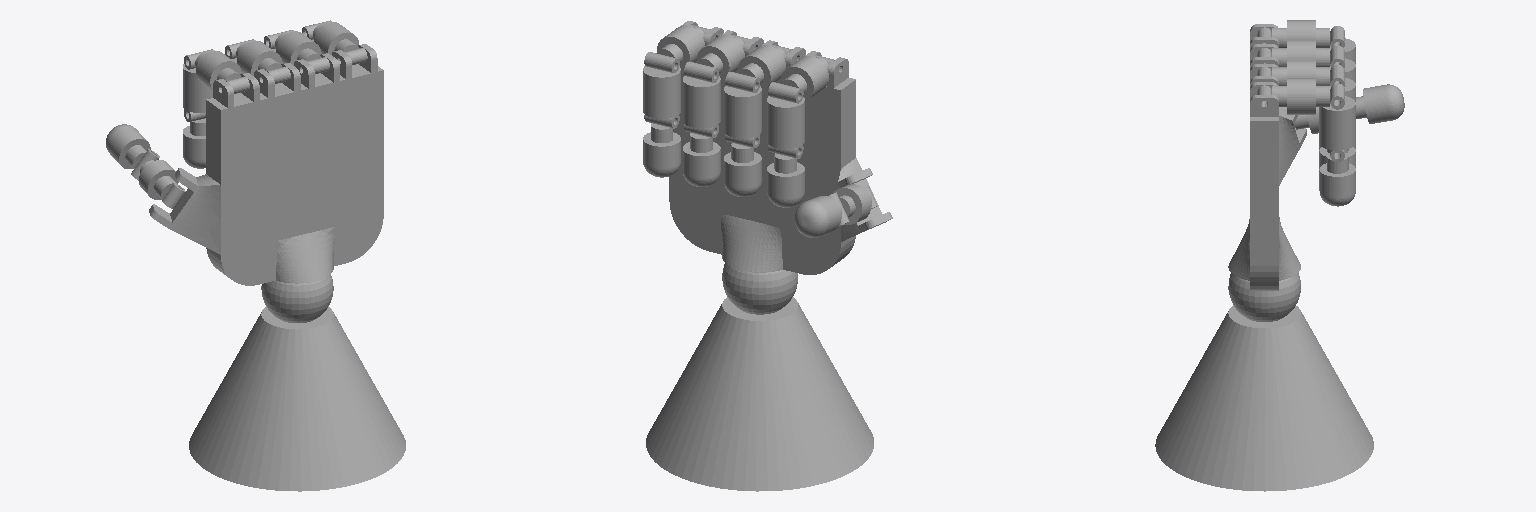
--- What the picture shows (computed from the rendered views, not written in the file) ---
3 views of the same robot in one strip: view 1: azimuth 30°, elevation 25°; view 2: azimuth 150°, elevation 25°; view 3: azimuth 270°, elevation 25° (orthographic).
Model hand with 16 links and 15 joints (15 continuous), rooted at base_link, posed every joint at zero.
Visible links, largest first — view 1: palm_1, base_link, T1_1, T2_1, I1_1, M1_1, R1_1, P1_1, I2_1, I3_1; view 2: base_link, palm_1, P2_1, I2_1, M2_1, R2_1, I3_1, M3_1, R3_1, P3_1, I1_1, M1_1 (+4 smaller); view 3: base_link, palm_1, P2_1, P1_1, P3_1, T2_1, I1_1, M1_1, R1_1.
Boxes of the visible links, box(x1,y1,x2,y2) form: palm_1: box(149, 44, 383, 285); base_link: box(189, 275, 405, 491); T1_1: box(133, 153, 185, 208); T2_1: box(106, 124, 159, 180); I1_1: box(191, 50, 249, 93); M1_1: box(232, 40, 290, 83); R1_1: box(271, 31, 329, 73); P1_1: box(309, 21, 367, 64); I2_1: box(183, 49, 214, 121); I3_1: box(183, 113, 205, 168); base_link: box(646, 263, 873, 491); palm_1: box(669, 21, 892, 274); P2_1: box(643, 52, 680, 128); I2_1: box(767, 82, 804, 158); M2_1: box(724, 72, 761, 147); R2_1: box(683, 61, 720, 137); I3_1: box(767, 147, 804, 207); M3_1: box(724, 136, 761, 196); R3_1: box(683, 126, 720, 186); P3_1: box(643, 117, 680, 177); I1_1: box(772, 55, 834, 102); M1_1: box(729, 45, 792, 91); base_link: box(1155, 273, 1373, 491); palm_1: box(1228, 24, 1306, 290); P2_1: box(1319, 83, 1355, 161); P1_1: box(1257, 78, 1344, 114); P3_1: box(1319, 150, 1355, 206); T2_1: box(1356, 84, 1404, 123); I1_1: box(1257, 20, 1344, 47); M1_1: box(1257, 41, 1344, 66); R1_1: box(1257, 60, 1344, 85).
Size in the robot's own frame: 0.1832 by 0.1709 by 0.2975 metres.
16 mesh visuals loaded from 16 distinct referenced files (16 binary STL).

The robot description file, URDF, robot "hand":
<?xml version="1.0" ?>
<!-- =================================================================================== -->
<!-- |    This document was autogenerated by xacro from [local-path]/ws_moveit/src/HANDV3/hand_description/urdf/hand.xacro | -->
<!-- |    EDITING THIS FILE BY HAND IS NOT RECOMMENDED                                 | -->
<!-- =================================================================================== -->
<robot name="hand">
    <material name="silver">
        <color rgba="0.700 0.700 0.700 1.000" />
    </material>
    <transmission name="PALM_JOINT_tran">
        <type>transmission_interface/SimpleTransmission</type>
        <joint name="PALM_JOINT">
            <hardwareInterface>hardware_interface/EffortJointInterface</hardwareInterface>
        </joint>
        <actuator name="PALM_JOINT_actr">
            <hardwareInterface>hardware_interface/EffortJointInterface</hardwareInterface>
            <mechanicalReduction>1</mechanicalReduction>
        </actuator>
    </transmission>
    <transmission name="P_MCP_tran">
        <type>transmission_interface/SimpleTransmission</type>
        <joint name="P_MCP">
            <hardwareInterface>hardware_interface/EffortJointInterface</hardwareInterface>
        </joint>
        <actuator name="P_MCP_actr">
            <hardwareInterface>hardware_interface/EffortJointInterface</hardwareInterface>
            <mechanicalReduction>1</mechanicalReduction>
        </actuator>
    </transmission>
    <transmission name="R_MCP_tran">
        <type>transmission_interface/SimpleTransmission</type>
        <joint name="R_MCP">
            <hardwareInterface>hardware_interface/EffortJointInterface</hardwareInterface>
        </joint>
        <actuator name="R_MCP_actr">
            <hardwareInterface>hardware_interface/EffortJointInterface</hardwareInterface>
            <mechanicalReduction>1</mechanicalReduction>
        </actuator>
    </transmission>
    <transmission name="M_MCP_tran">
        <type>transmission_interface/SimpleTransmission</type>
        <joint name="M_MCP">
            <hardwareInterface>hardware_interface/EffortJointInterface</hardwareInterface>
        </joint>
        <actuator name="M_MCP_actr">
            <hardwareInterface>hardware_interface/EffortJointInterface</hardwareInterface>
            <mechanicalReduction>1</mechanicalReduction>
        </actuator>
    </transmission>
    <transmission name="I_MCP_tran">
        <type>transmission_interface/SimpleTransmission</type>
        <joint name="I_MCP">
            <hardwareInterface>hardware_interface/EffortJointInterface</hardwareInterface>
        </joint>
        <actuator name="I_MCP_actr">
            <hardwareInterface>hardware_interface/EffortJointInterface</hardwareInterface>
            <mechanicalReduction>1</mechanicalReduction>
        </actuator>
    </transmission>
    <transmission name="T_MCP_tran">
        <type>transmission_interface/SimpleTransmission</type>
        <joint name="T_MCP">
            <hardwareInterface>hardware_interface/EffortJointInterface</hardwareInterface>
        </joint>
        <actuator name="T_MCP_actr">
            <hardwareInterface>hardware_interface/EffortJointInterface</hardwareInterface>
            <mechanicalReduction>1</mechanicalReduction>
        </actuator>
    </transmission>
    <transmission name="I_PIP_tran">
        <type>transmission_interface/SimpleTransmission</type>
        <joint name="I_PIP">
            <hardwareInterface>hardware_interface/EffortJointInterface</hardwareInterface>
        </joint>
        <actuator name="I_PIP_actr">
            <hardwareInterface>hardware_interface/EffortJointInterface</hardwareInterface>
            <mechanicalReduction>1</mechanicalReduction>
        </actuator>
    </transmission>
    <transmission name="M_PIP_tran">
        <type>transmission_interface/SimpleTransmission</type>
        <joint name="M_PIP">
            <hardwareInterface>hardware_interface/EffortJointInterface</hardwareInterface>
        </joint>
        <actuator name="M_PIP_actr">
            <hardwareInterface>hardware_interface/EffortJointInterface</hardwareInterface>
            <mechanicalReduction>1</mechanicalReduction>
        </actuator>
    </transmission>
    <transmission name="R_PIP_tran">
        <type>transmission_interface/SimpleTransmission</type>
        <joint name="R_PIP">
            <hardwareInterface>hardware_interface/EffortJointInterface</hardwareInterface>
        </joint>
        <actuator name="R_PIP_actr">
            <hardwareInterface>hardware_interface/EffortJointInterface</hardwareInterface>
            <mechanicalReduction>1</mechanicalReduction>
        </actuator>
    </transmission>
    <transmission name="P_PIP_tran">
        <type>transmission_interface/SimpleTransmission</type>
        <joint name="P_PIP">
            <hardwareInterface>hardware_interface/EffortJointInterface</hardwareInterface>
        </joint>
        <actuator name="P_PIP_actr">
            <hardwareInterface>hardware_interface/EffortJointInterface</hardwareInterface>
            <mechanicalReduction>1</mechanicalReduction>
        </actuator>
    </transmission>
    <transmission name="P_DIP_tran">
        <type>transmission_interface/SimpleTransmission</type>
        <joint name="P_DIP">
            <hardwareInterface>hardware_interface/EffortJointInterface</hardwareInterface>
        </joint>
        <actuator name="P_DIP_actr">
            <hardwareInterface>hardware_interface/EffortJointInterface</hardwareInterface>
            <mechanicalReduction>1</mechanicalReduction>
        </actuator>
    </transmission>
    <transmission name="R_DIP_tran">
        <type>transmission_interface/SimpleTransmission</type>
        <joint name="R_DIP">
            <hardwareInterface>hardware_interface/EffortJointInterface</hardwareInterface>
        </joint>
        <actuator name="R_DIP_actr">
            <hardwareInterface>hardware_interface/EffortJointInterface</hardwareInterface>
            <mechanicalReduction>1</mechanicalReduction>
        </actuator>
    </transmission>
    <transmission name="M_DIP_tran">
        <type>transmission_interface/SimpleTransmission</type>
        <joint name="M_DIP">
            <hardwareInterface>hardware_interface/EffortJointInterface</hardwareInterface>
        </joint>
        <actuator name="M_DIP_actr">
            <hardwareInterface>hardware_interface/EffortJointInterface</hardwareInterface>
            <mechanicalReduction>1</mechanicalReduction>
        </actuator>
    </transmission>
    <transmission name="I_DIP_tran">
        <type>transmission_interface/SimpleTransmission</type>
        <joint name="I_DIP">
            <hardwareInterface>hardware_interface/EffortJointInterface</hardwareInterface>
        </joint>
        <actuator name="I_DIP_actr">
            <hardwareInterface>hardware_interface/EffortJointInterface</hardwareInterface>
            <mechanicalReduction>1</mechanicalReduction>
        </actuator>
    </transmission>
    <transmission name="T_DIP_tran">
        <type>transmission_interface/SimpleTransmission</type>
        <joint name="T_DIP">
            <hardwareInterface>hardware_interface/EffortJointInterface</hardwareInterface>
        </joint>
        <actuator name="T_DIP_actr">
            <hardwareInterface>hardware_interface/EffortJointInterface</hardwareInterface>
            <mechanicalReduction>1</mechanicalReduction>
        </actuator>
    </transmission>
<gazebo>
  <plugin name="control" filename="libgazebo_ros_control.so"/>
</gazebo>
    <gazebo reference="base_link">
        <material>Gazebo/Silver</material>
        <mu1>0.2</mu1>
        <mu2>0.2</mu2>
        <selfCollide>true</selfCollide>
        <gravity>true</gravity>
    </gazebo>
    <gazebo reference="palm_1">
        <material>Gazebo/Silver</material>
        <mu1>0.2</mu1>
        <mu2>0.2</mu2>
        <selfCollide>true</selfCollide>
    </gazebo>
    <gazebo reference="P1_1">
        <material>Gazebo/Silver</material>
        <mu1>0.2</mu1>
        <mu2>0.2</mu2>
        <selfCollide>true</selfCollide>
    </gazebo>
    <gazebo reference="R1_1">
        <material>Gazebo/Silver</material>
        <mu1>0.2</mu1>
        <mu2>0.2</mu2>
        <selfCollide>true</selfCollide>
    </gazebo>
    <gazebo reference="M1_1">
        <material>Gazebo/Silver</material>
        <mu1>0.2</mu1>
        <mu2>0.2</mu2>
        <selfCollide>true</selfCollide>
    </gazebo>
    <gazebo reference="I1_1">
        <material>Gazebo/Silver</material>
        <mu1>0.2</mu1>
        <mu2>0.2</mu2>
        <selfCollide>true</selfCollide>
    </gazebo>
    <gazebo reference="T1_1">
        <material>Gazebo/Silver</material>
        <mu1>0.2</mu1>
        <mu2>0.2</mu2>
        <selfCollide>true</selfCollide>
    </gazebo>
    <gazebo reference="I2_1">
        <material>Gazebo/Silver</material>
        <mu1>0.2</mu1>
        <mu2>0.2</mu2>
        <selfCollide>true</selfCollide>
    </gazebo>
    <gazebo reference="M2_1">
        <material>Gazebo/Silver</material>
        <mu1>0.2</mu1>
        <mu2>0.2</mu2>
        <selfCollide>true</selfCollide>
    </gazebo>
    <gazebo reference="R2_1">
        <material>Gazebo/Silver</material>
        <mu1>0.2</mu1>
        <mu2>0.2</mu2>
        <selfCollide>true</selfCollide>
    </gazebo>
    <gazebo reference="P2_1">
        <material>Gazebo/Silver</material>
        <mu1>0.2</mu1>
        <mu2>0.2</mu2>
        <selfCollide>true</selfCollide>
    </gazebo>
    <gazebo reference="P3_1">
        <material>Gazebo/Silver</material>
        <mu1>0.2</mu1>
        <mu2>0.2</mu2>
        <selfCollide>true</selfCollide>
    </gazebo>
    <gazebo reference="R3_1">
        <material>Gazebo/Silver</material>
        <mu1>0.2</mu1>
        <mu2>0.2</mu2>
        <selfCollide>true</selfCollide>
    </gazebo>
    <gazebo reference="M3_1">
        <material>Gazebo/Silver</material>
        <mu1>0.2</mu1>
        <mu2>0.2</mu2>
        <selfCollide>true</selfCollide>
    </gazebo>
    <gazebo reference="I3_1">
        <material>Gazebo/Silver</material>
        <mu1>0.2</mu1>
        <mu2>0.2</mu2>
        <selfCollide>true</selfCollide>
    </gazebo>
    <gazebo reference="T2_1">
        <material>Gazebo/Silver</material>
        <mu1>0.2</mu1>
        <mu2>0.2</mu2>
        <selfCollide>true</selfCollide>
    </gazebo>
    <link name="base_link">
        <inertial>
            <origin rpy="0 0 0" xyz="0.0 0.0 0.04059887632407671" />
            <mass value="7.1785523034220695" />
            <inertia ixx="0.013714" ixy="0.0" ixz="0.0" iyy="0.013714" iyz="-0.0" izz="0.011784" />
        </inertial>
        <visual>
            <origin rpy="0 0 0" xyz="0 0 0" />
            <geometry>
                <mesh filename="package://hand_description/meshes/base_link.stl" scale="0.001 0.001 0.001" />
            </geometry>
            <material name="silver" />
        </visual>
        <collision>
            <origin rpy="0 0 0" xyz="0 0 0" />
            <geometry>
                <mesh filename="package://hand_description/meshes/base_link.stl" scale="0.001 0.001 0.001" />
            </geometry>
        </collision>
    </link>
    <link name="palm_1">
        <inertial>
            <origin rpy="0 0 0" xyz="-0.005914617900261412 0.00037729563091550624 0.0866626904719881" />
            <mass value="3.1025400256133953" />
            <inertia ixx="0.005278" ixy="9.1e-05" ixz="-0.000171" iyy="0.009998" iyz="1.5e-05" izz="0.004986" />
        </inertial>
        <visual>
            <origin rpy="0 0 0" xyz="-0.0 -0.0 -0.12" />
            <geometry>
                <mesh filename="package://hand_description/meshes/palm_1.stl" scale="0.001 0.001 0.001" />
            </geometry>
            <material name="silver" />
        </visual>
        <collision>
            <origin rpy="0 0 0" xyz="-0.0 -0.0 -0.12" />
            <geometry>
                <mesh filename="package://hand_description/meshes/palm_1.stl" scale="0.001 0.001 0.001" />
            </geometry>
        </collision>
    </link>
    <link name="P1_1">
        <inertial>
            <origin rpy="0 0 0" xyz="-0.0075 0.024999999999999994 1.0158540675320182e-14" />
            <mass value="0.11868347996639739" />
            <inertia ixx="2.1e-05" ixy="0.0" ixz="0.0" iyy="7e-06" iyz="-0.0" izz="2.1e-05" />
        </inertial>
        <visual>
            <origin rpy="0 0 0" xyz="-0.053 0.0 -0.285" />
            <geometry>
                <mesh filename="package://hand_description/meshes/P1_1.stl" scale="0.001 0.001 0.001" />
            </geometry>
            <material name="silver" />
        </visual>
        <collision>
            <origin rpy="0 0 0" xyz="-0.053 0.0 -0.285" />
            <geometry>
                <mesh filename="package://hand_description/meshes/P1_1.stl" scale="0.001 0.001 0.001" />
            </geometry>
        </collision>
    </link>
    <link name="R1_1">
        <inertial>
            <origin rpy="0 0 0" xyz="-0.007499999999999977 0.02499999999999997 1.0158540675320182e-14" />
            <mass value="0.11868347996639744" />
            <inertia ixx="2.1e-05" ixy="0.0" ixz="-0.0" iyy="7e-06" iyz="0.0" izz="2.1e-05" />
        </inertial>
        <visual>
            <origin rpy="0 0 0" xyz="-0.023 0.0 -0.285" />
            <geometry>
                <mesh filename="package://hand_description/meshes/R1_1.stl" scale="0.001 0.001 0.001" />
            </geometry>
            <material name="silver" />
        </visual>
        <collision>
            <origin rpy="0 0 0" xyz="-0.023 0.0 -0.285" />
            <geometry>
                <mesh filename="package://hand_description/meshes/R1_1.stl" scale="0.001 0.001 0.001" />
            </geometry>
        </collision>
    </link>
    <link name="M1_1">
        <inertial>
            <origin rpy="0 0 0" xyz="-0.007499590955043892 0.024999999999999897 1.0158540675320182e-14" />
            <mass value="0.1186834799663969" />
            <inertia ixx="2.1e-05" ixy="0.0" ixz="0.0" iyy="7e-06" iyz="0.0" izz="2.1e-05" />
        </inertial>
        <visual>
            <origin rpy="0 0 0" xyz="0.008191 0.0 -0.285" />
            <geometry>
                <mesh filename="package://hand_description/meshes/M1_1.stl" scale="0.001 0.001 0.001" />
            </geometry>
            <material name="silver" />
        </visual>
        <collision>
            <origin rpy="0 0 0" xyz="0.008191 0.0 -0.285" />
            <geometry>
                <mesh filename="package://hand_description/meshes/M1_1.stl" scale="0.001 0.001 0.001" />
            </geometry>
        </collision>
    </link>
    <link name="I1_1">
        <inertial>
            <origin rpy="0 0 0" xyz="-0.00749989105614049 0.024999999999999963 1.0158540675320182e-14" />
            <mass value="0.11868347996639722" />
            <inertia ixx="2.1e-05" ixy="0.0" ixz="0.0" iyy="7e-06" iyz="0.0" izz="2.1e-05" />
        </inertial>
        <visual>
            <origin rpy="0 0 0" xyz="0.04081 0.0 -0.285" />
            <geometry>
                <mesh filename="package://hand_description/meshes/I1_1.stl" scale="0.001 0.001 0.001" />
            </geometry>
            <material name="silver" />
        </visual>
        <collision>
            <origin rpy="0 0 0" xyz="0.04081 0.0 -0.285" />
            <geometry>
                <mesh filename="package://hand_description/meshes/I1_1.stl" scale="0.001 0.001 0.001" />
            </geometry>
        </collision>
    </link>
    <link name="T1_1">
        <inertial>
            <origin rpy="0 0 0" xyz="-0.004240749228645091 0.02124494204261544 -0.002231975045458773" />
            <mass value="0.0863152601245754" />
            <inertia ixx="1.2e-05" ixy="0.0" ixz="-0.0" iyy="5e-06" iyz="-1e-06" izz="1.1e-05" />
        </inertial>
        <visual>
            <origin rpy="0 0 0" xyz="0.085106 -0.014549 -0.210278" />
            <geometry>
                <mesh filename="package://hand_description/meshes/T1_1.stl" scale="0.001 0.001 0.001" />
            </geometry>
            <material name="silver" />
        </visual>
        <collision>
            <origin rpy="0 0 0" xyz="0.085106 -0.014549 -0.210278" />
            <geometry>
                <mesh filename="package://hand_description/meshes/T1_1.stl" scale="0.001 0.001 0.001" />
            </geometry>
        </collision>
    </link>
    <link name="I2_1">
        <inertial>
            <origin rpy="0 0 0" xyz="0.007500108943859496 -1.3877787807814457e-17 -0.01999999999999591" />
            <mass value="0.12114963019946477" />
            <inertia ixx="1.5e-05" ixy="-0.0" ixz="-0.0" iyy="1.6e-05" iyz="0.0" izz="1e-05" />
        </inertial>
        <visual>
            <origin rpy="0 0 0" xyz="0.05581 -0.05 -0.285" />
            <geometry>
                <mesh filename="package://hand_description/meshes/I2_1.stl" scale="0.001 0.001 0.001" />
            </geometry>
            <material name="silver" />
        </visual>
        <collision>
            <origin rpy="0 0 0" xyz="0.05581 -0.05 -0.285" />
            <geometry>
                <mesh filename="package://hand_description/meshes/I2_1.stl" scale="0.001 0.001 0.001" />
            </geometry>
        </collision>
    </link>
    <link name="M2_1">
        <inertial>
            <origin rpy="0 0 0" xyz="0.007500409044956101 -1.3877787807814457e-16 -0.019999999999995854" />
            <mass value="0.12114963019946477" />
            <inertia ixx="1.5e-05" ixy="-0.0" ixz="-0.0" iyy="1.6e-05" iyz="0.0" izz="1e-05" />
        </inertial>
        <visual>
            <origin rpy="0 0 0" xyz="0.023191 -0.05 -0.285" />
            <geometry>
                <mesh filename="package://hand_description/meshes/M2_1.stl" scale="0.001 0.001 0.001" />
            </geometry>
            <material name="silver" />
        </visual>
        <collision>
            <origin rpy="0 0 0" xyz="0.023191 -0.05 -0.285" />
            <geometry>
                <mesh filename="package://hand_description/meshes/M2_1.stl" scale="0.001 0.001 0.001" />
            </geometry>
        </collision>
    </link>
    <link name="R2_1">
        <inertial>
            <origin rpy="0 0 0" xyz="0.0075000000000000466 -1.1796119636642288e-16 -0.019999999999995854" />
            <mass value="0.12114963019946477" />
            <inertia ixx="1.5e-05" ixy="-0.0" ixz="0.0" iyy="1.6e-05" iyz="0.0" izz="1e-05" />
        </inertial>
        <visual>
            <origin rpy="0 0 0" xyz="-0.008 -0.05 -0.285" />
            <geometry>
                <mesh filename="package://hand_description/meshes/R2_1.stl" scale="0.001 0.001 0.001" />
            </geometry>
            <material name="silver" />
        </visual>
        <collision>
            <origin rpy="0 0 0" xyz="-0.008 -0.05 -0.285" />
            <geometry>
                <mesh filename="package://hand_description/meshes/R2_1.stl" scale="0.001 0.001 0.001" />
            </geometry>
        </collision>
    </link>
    <link name="P2_1">
        <inertial>
            <origin rpy="0 0 0" xyz="0.0075 -2.7755575615628914e-17 -0.019999999999995854" />
            <mass value="0.12114963019946477" />
            <inertia ixx="1.5e-05" ixy="0.0" ixz="0.0" iyy="1.6e-05" iyz="0.0" izz="1e-05" />
        </inertial>
        <visual>
            <origin rpy="0 0 0" xyz="-0.038 -0.05 -0.285" />
            <geometry>
                <mesh filename="package://hand_description/meshes/P2_1.stl" scale="0.001 0.001 0.001" />
            </geometry>
            <material name="silver" />
        </visual>
        <collision>
            <origin rpy="0 0 0" xyz="-0.038 -0.05 -0.285" />
            <geometry>
                <mesh filename="package://hand_description/meshes/P2_1.stl" scale="0.001 0.001 0.001" />
            </geometry>
        </collision>
    </link>
    <link name="P3_1">
        <inertial>
            <origin rpy="0 0 0" xyz="-0.007499999999999993 1.0422218643668657e-13 -0.022926738733067747" />
            <mass value="0.11012879346184722" />
            <inertia ixx="1.5e-05" ixy="0.0" ixz="0.0" iyy="1.5e-05" iyz="-0.0" izz="7e-06" />
        </inertial>
        <visual>
            <origin rpy="0 0 0" xyz="-0.053 -0.05 -0.245" />
            <geometry>
                <mesh filename="package://hand_description/meshes/P3_1.stl" scale="0.001 0.001 0.001" />
            </geometry>
            <material name="silver" />
        </visual>
        <collision>
            <origin rpy="0 0 0" xyz="-0.053 -0.05 -0.245" />
            <geometry>
                <mesh filename="package://hand_description/meshes/P3_1.stl" scale="0.001 0.001 0.001" />
            </geometry>
        </collision>
    </link>
    <link name="R3_1">
        <inertial>
            <origin rpy="0 0 0" xyz="-0.007499999999999953 -1.0438871989038034e-13 -0.022926738733067775" />
            <mass value="0.11012879346184722" />
            <inertia ixx="1.5e-05" ixy="0.0" ixz="0.0" iyy="1.5e-05" iyz="0.0" izz="7e-06" />
        </inertial>
        <visual>
            <origin rpy="0 0 0" xyz="-0.023 -0.05 -0.245" />
            <geometry>
                <mesh filename="package://hand_description/meshes/R3_1.stl" scale="0.001 0.001 0.001" />
            </geometry>
            <material name="silver" />
        </visual>
        <collision>
            <origin rpy="0 0 0" xyz="-0.023 -0.05 -0.245" />
            <geometry>
                <mesh filename="package://hand_description/meshes/R3_1.stl" scale="0.001 0.001 0.001" />
            </geometry>
        </collision>
    </link>
    <link name="M3_1">
        <inertial>
            <origin rpy="0 0 0" xyz="-0.007499590955043895 1.0411810302812796e-13 -0.022926738733067775" />
            <mass value="0.11012879346184722" />
            <inertia ixx="1.5e-05" ixy="0.0" ixz="-0.0" iyy="1.5e-05" iyz="-0.0" izz="7e-06" />
        </inertial>
        <visual>
            <origin rpy="0 0 0" xyz="0.008191 -0.05 -0.245" />
            <geometry>
                <mesh filename="package://hand_description/meshes/M3_1.stl" scale="0.001 0.001 0.001" />
            </geometry>
            <material name="silver" />
        </visual>
        <collision>
            <origin rpy="0 0 0" xyz="0.008191 -0.05 -0.245" />
            <geometry>
                <mesh filename="package://hand_description/meshes/M3_1.stl" scale="0.001 0.001 0.001" />
            </geometry>
        </collision>
    </link>
    <link name="I3_1">
        <inertial>
            <origin rpy="0 0 0" xyz="-0.007499891056140483 -1.0429851426962955e-13 -0.022926738733067886" />
            <mass value="0.11012879346184722" />
            <inertia ixx="1.5e-05" ixy="0.0" ixz="-0.0" iyy="1.5e-05" iyz="0.0" izz="7e-06" />
        </inertial>
        <visual>
            <origin rpy="0 0 0" xyz="0.04081 -0.05 -0.245" />
            <geometry>
                <mesh filename="package://hand_description/meshes/I3_1.stl" scale="0.001 0.001 0.001" />
            </geometry>
            <material name="silver" />
        </visual>
        <collision>
            <origin rpy="0 0 0" xyz="0.04081 -0.05 -0.245" />
            <geometry>
                <mesh filename="package://hand_description/meshes/I3_1.stl" scale="0.001 0.001 0.001" />
            </geometry>
        </collision>
    </link>
    <link name="T2_1">
        <inertial>
            <origin rpy="0 0 0" xyz="0.004241250779561612 0.022239411600103447 0.010554123548223576" />
            <mass value="0.10596716477817673" />
            <inertia ixx="1.3e-05" ixy="0.0" ixz="-0.0" iyy="7e-06" iyz="-1e-06" izz="1.3e-05" />
        </inertial>
        <visual>
            <origin rpy="0 0 0" xyz="0.093588 -0.056162 -0.205646" />
            <geometry>
                <mesh filename="package://hand_description/meshes/T2_1.stl" scale="0.001 0.001 0.001" />
            </geometry>
            <material name="silver" />
        </visual>
        <collision>
            <origin rpy="0 0 0" xyz="0.093588 -0.056162 -0.205646" />
            <geometry>
                <mesh filename="package://hand_description/meshes/T2_1.stl" scale="0.001 0.001 0.001" />
            </geometry>
        </collision>
    </link>
    <joint name="PALM_JOINT" type="continuous">
        <origin rpy="0 0 0" xyz="0.0 0.0 0.12" />
        <parent link="base_link" />
        <child link="palm_1" />
        <axis xyz="0.0 0.0 1.0" />
    </joint>
    <joint name="P_MCP" type="continuous">
        <origin rpy="0 0 0" xyz="0.053 -0.0 0.165" />
        <parent link="palm_1" />
        <child link="P1_1" />
        <axis xyz="1.0 0.0 0.0" />
    </joint>
    <joint name="R_MCP" type="continuous">
        <origin rpy="0 0 0" xyz="0.023 -0.0 0.165" />
        <parent link="palm_1" />
        <child link="R1_1" />
        <axis xyz="1.0 0.0 0.0" />
    </joint>
    <joint name="M_MCP" type="continuous">
        <origin rpy="0 0 0" xyz="-0.008191 -0.0 0.165" />
        <parent link="palm_1" />
        <child link="M1_1" />
        <axis xyz="1.0 0.0 0.0" />
    </joint>
    <joint name="I_MCP" type="continuous">
        <origin rpy="0 0 0" xyz="-0.04081 -0.0 0.165" />
        <parent link="palm_1" />
        <child link="I1_1" />
        <axis xyz="1.0 0.0 0.0" />
    </joint>
    <joint name="T_MCP" type="continuous">
        <origin rpy="0 0 0" xyz="-0.085106 0.014549 0.090278" />
        <parent link="palm_1" />
        <child link="T1_1" />
        <axis xyz="-0.565462 0.15503 -0.810073" />
    </joint>
    <joint name="I_PIP" type="continuous">
        <origin rpy="0 0 0" xyz="-0.015 0.05 0.0" />
        <parent link="I1_1" />
        <child link="I2_1" />
        <axis xyz="-1.0 0.0 0.0" />
    </joint>
    <joint name="M_PIP" type="continuous">
        <origin rpy="0 0 0" xyz="-0.015 0.05 0.0" />
        <parent link="M1_1" />
        <child link="M2_1" />
        <axis xyz="-1.0 -0.0 -0.0" />
    </joint>
    <joint name="R_PIP" type="continuous">
        <origin rpy="0 0 0" xyz="-0.015 0.05 0.0" />
        <parent link="R1_1" />
        <child link="R2_1" />
        <axis xyz="1.0 0.0 0.0" />
    </joint>
    <joint name="P_PIP" type="continuous">
        <origin rpy="0 0 0" xyz="-0.015 0.05 0.0" />
        <parent link="P1_1" />
        <child link="P2_1" />
        <axis xyz="-1.0 0.0 0.0" />
    </joint>
    <joint name="P_DIP" type="continuous">
        <origin rpy="0 0 0" xyz="0.015 0.0 -0.04" />
        <parent link="P2_1" />
        <child link="P3_1" />
        <axis xyz="-1.0 -0.0 0.0" />
    </joint>
    <joint name="R_DIP" type="continuous">
        <origin rpy="0 0 0" xyz="0.015 0.0 -0.04" />
        <parent link="R2_1" />
        <child link="R3_1" />
        <axis xyz="1.0 -0.0 0.0" />
    </joint>
    <joint name="M_DIP" type="continuous">
        <origin rpy="0 0 0" xyz="0.015 0.0 -0.04" />
        <parent link="M2_1" />
        <child link="M3_1" />
        <axis xyz="-1.0 0.0 -0.0" />
    </joint>
    <joint name="I_DIP" type="continuous">
        <origin rpy="0 0 0" xyz="0.015 0.0 -0.04" />
        <parent link="I2_1" />
        <child link="I3_1" />
        <axis xyz="1.0 -0.0 -0.0" />
    </joint>
    <joint name="T_DIP" type="continuous">
        <origin rpy="0 0 0" xyz="-0.008482 0.041613 -0.004632" />
        <parent link="T1_1" />
        <child link="T2_1" />
        <axis xyz="0.565462 -0.15503 0.810073" />
    </joint>
</robot>
